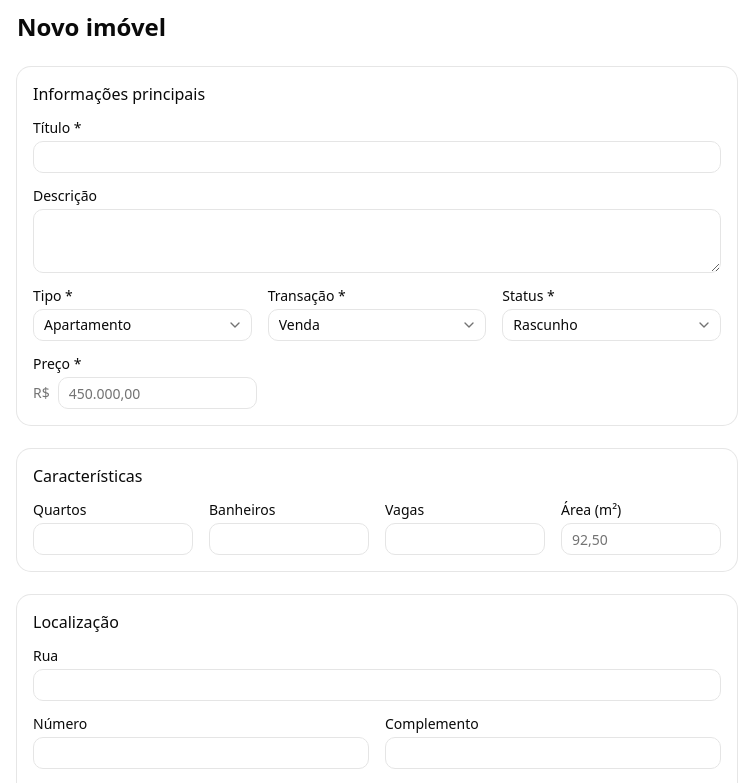
it: NewPropertyPage › shows a safe error message in the form and does not navigate when the mutation fails
In the field labelled "Título *": {"x": 377, "y": 157} left=33, top=141, right=721, bottom=173, type "Apartamento no Centro"
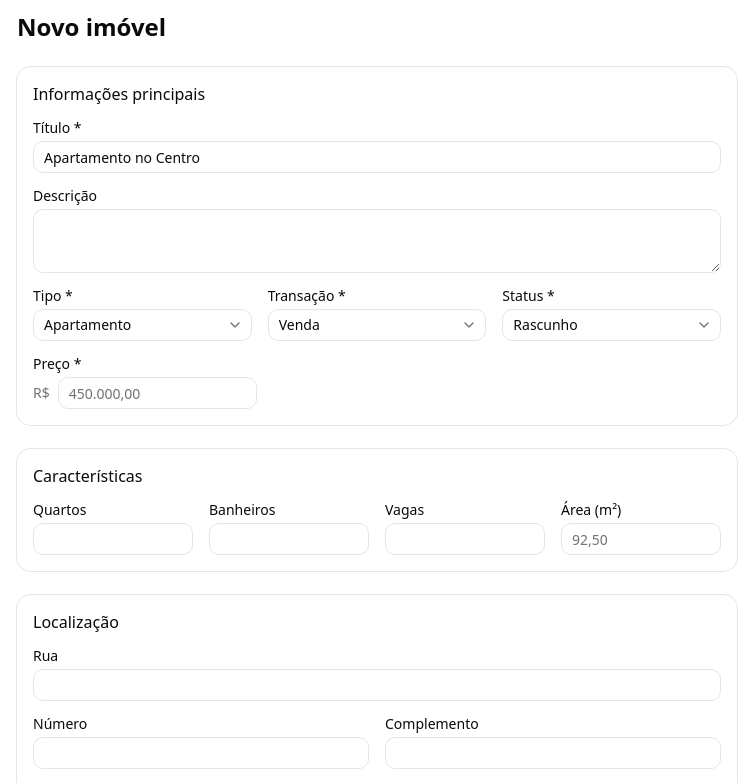
In the field labelled "Preço *": {"x": 157, "y": 393} left=58, top=377, right=257, bottom=409, type "450000,00"
(page scrolled)
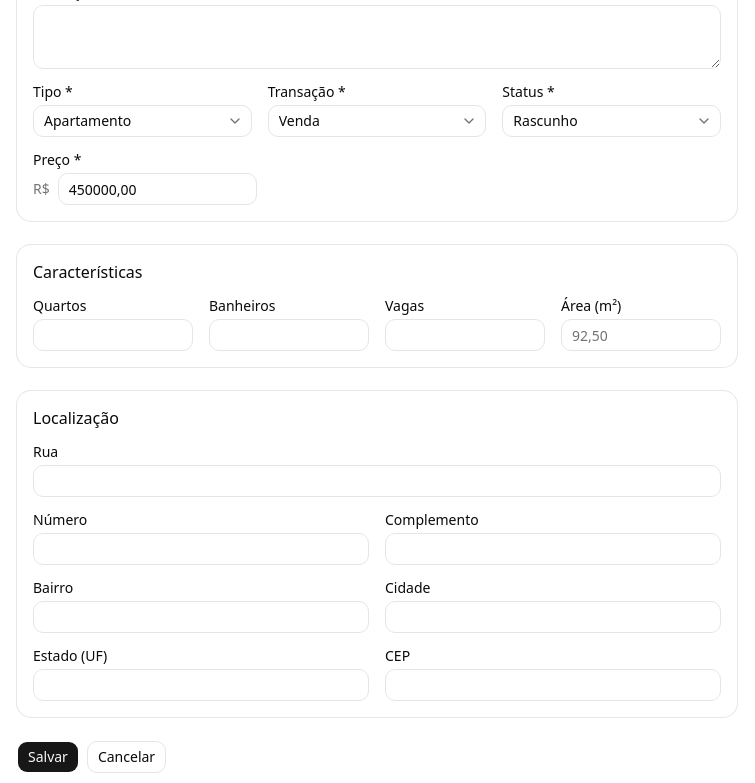
Click the button "Salvar": {"x": 48, "y": 757} left=17, top=741, right=79, bottom=773
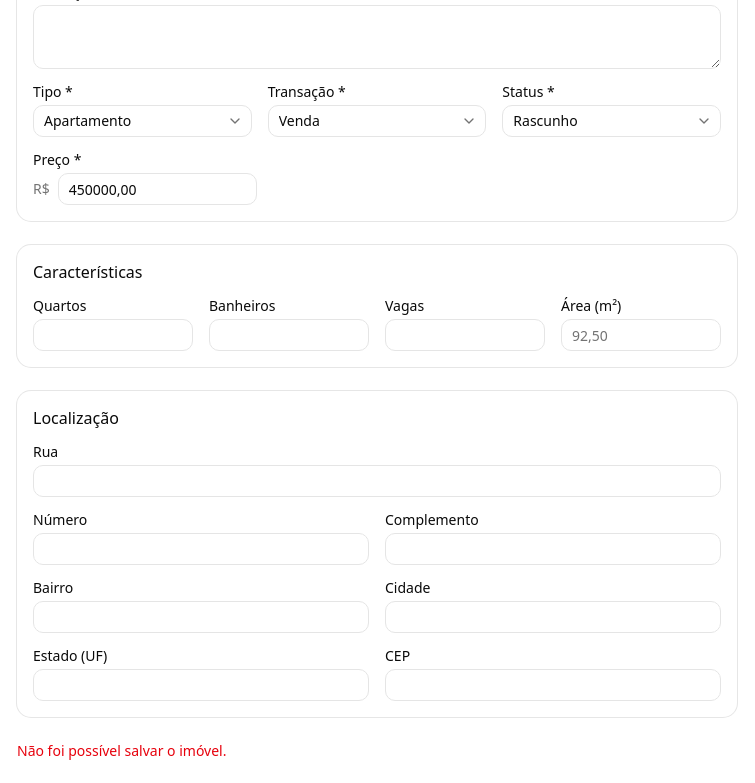
Expected: the text "Não foi possível salvar o imóvel." is shown, left=17, top=741, right=226, bottom=760
